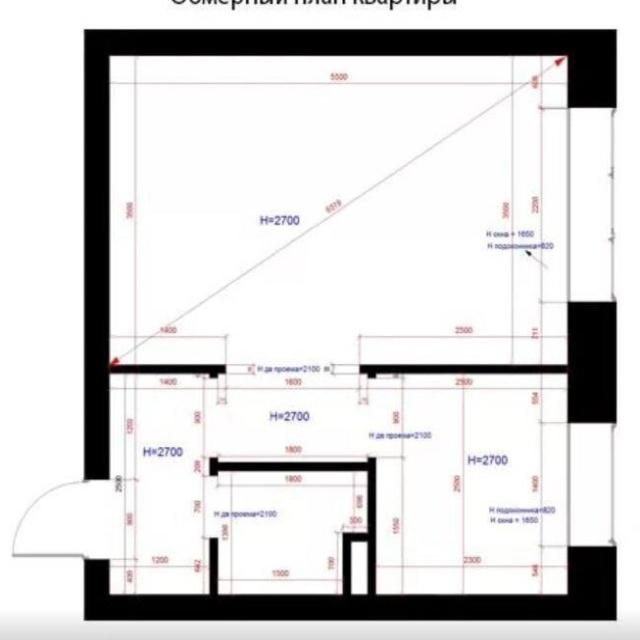Corridors: (111, 375, 566, 594), (220, 472, 366, 593)
Doors: (9, 478, 111, 560), (227, 364, 359, 375), (209, 477, 219, 537)
LBwalls: (566, 302, 617, 424), (567, 29, 617, 108), (567, 545, 617, 622)
Offices: (112, 57, 567, 362)
Walls: (82, 28, 567, 482), (84, 456, 566, 621), (358, 362, 567, 378)
Windows: (567, 109, 615, 304), (567, 425, 615, 546)
